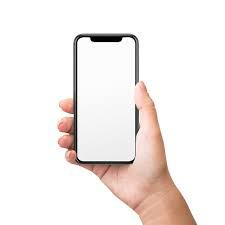Hand: (49, 77, 171, 201)
Smartphone: (73, 29, 139, 166)
